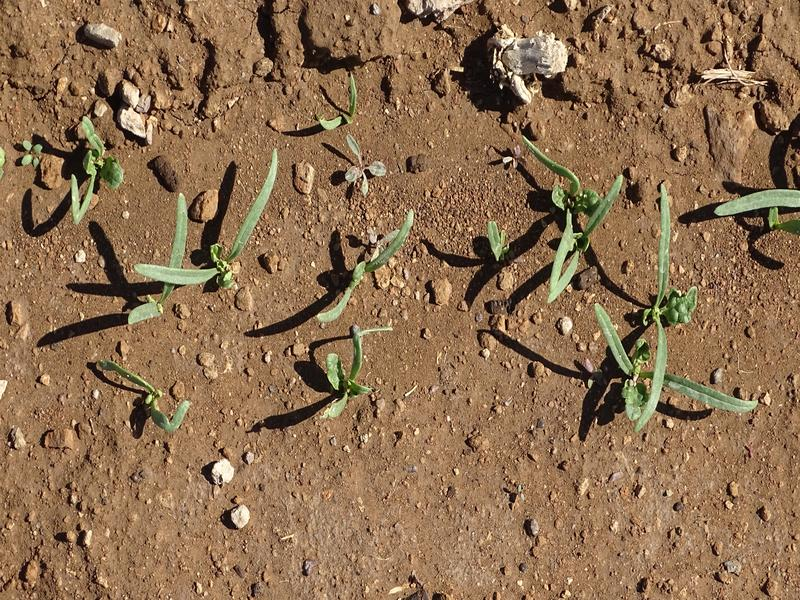Espinaca: (611, 191, 709, 429), (155, 168, 285, 294), (521, 138, 614, 289), (314, 208, 414, 325), (116, 353, 199, 442), (55, 125, 134, 218), (316, 325, 370, 419), (716, 185, 800, 223)
